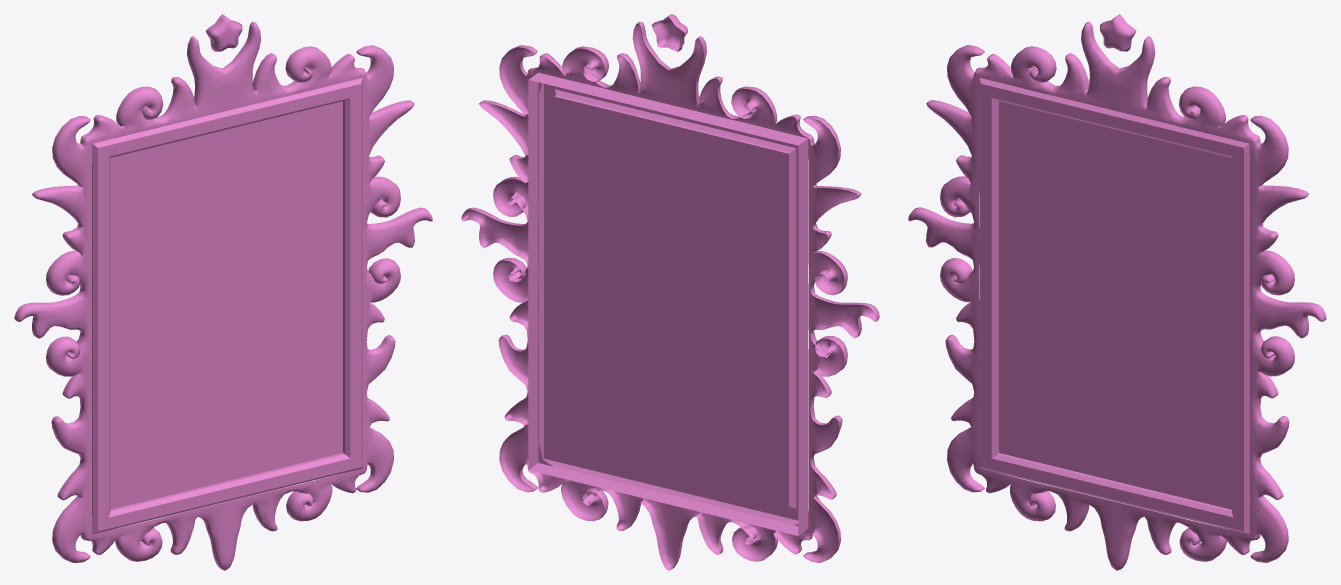
File: ENV_HAU_PAINTINGS_MODEL.fbx
The picture shows the model from 3 angles, left to right: view 1: azimuth 30°, elevation 25°; view 2: azimuth 150°, elevation 25°; view 3: azimuth 330°, elevation 25°; orthographic projection.
Visible parts, largest first — view 1: ENV_HAU_PAINTINGS_MODEL; view 2: ENV_HAU_PAINTINGS_MODEL; view 3: ENV_HAU_PAINTINGS_MODEL.
Boxes of the visible parts, x1,y1,x2,y2 form: ENV_HAU_PAINTINGS_MODEL: (14,14,432,570); ENV_HAU_PAINTINGS_MODEL: (461,14,879,570); ENV_HAU_PAINTINGS_MODEL: (908,14,1326,570).
Bounding box in the file's own units: 52.08 × 66.5 × 2.8.
